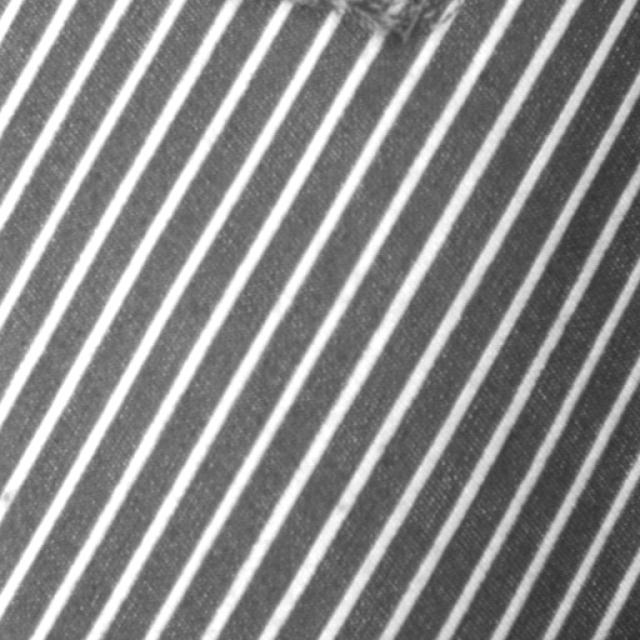Foreign-Body-Defect: (285, 0, 464, 41)
